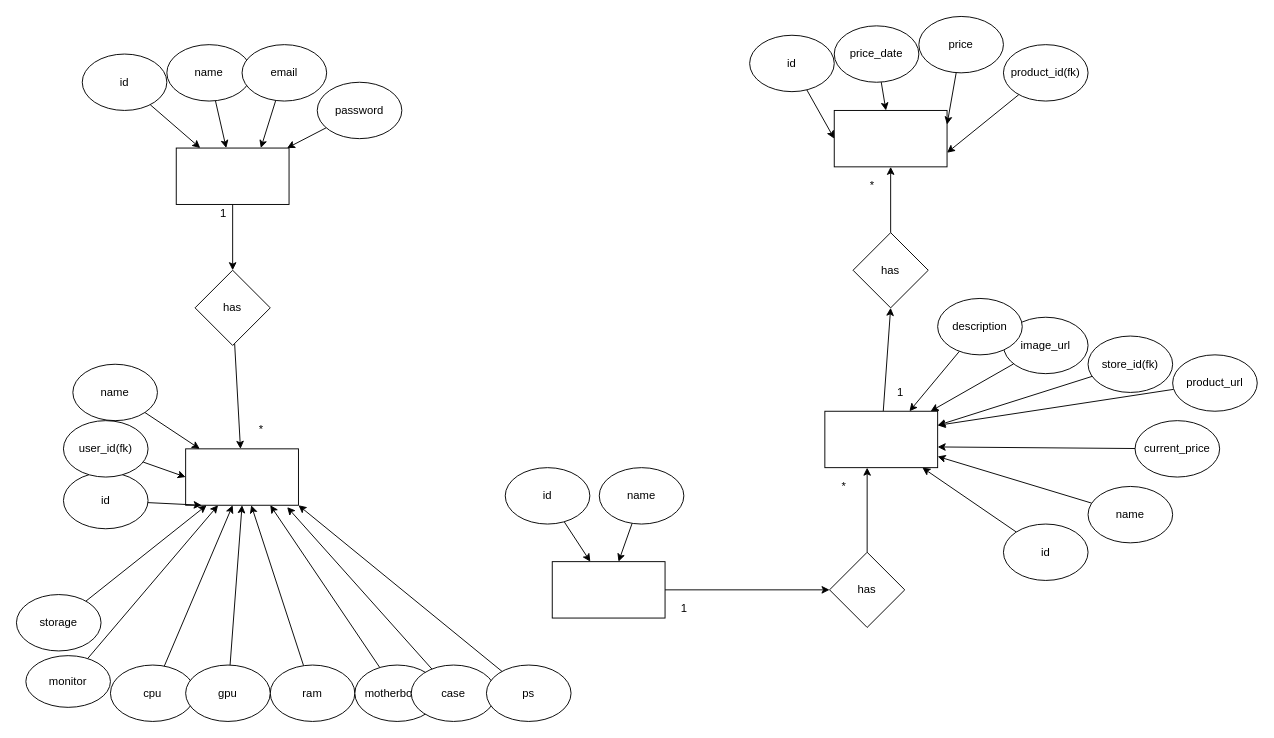
This 1274x738 diagram has some shape labels left out. Here are the shapes that lost their labels. From the top down, the box of each, then its label:
(833, 110, 947, 167): prices
(175, 147, 289, 204): users
(824, 410, 938, 468): products
(185, 448, 298, 505): pc_build
(551, 561, 665, 618): stores
